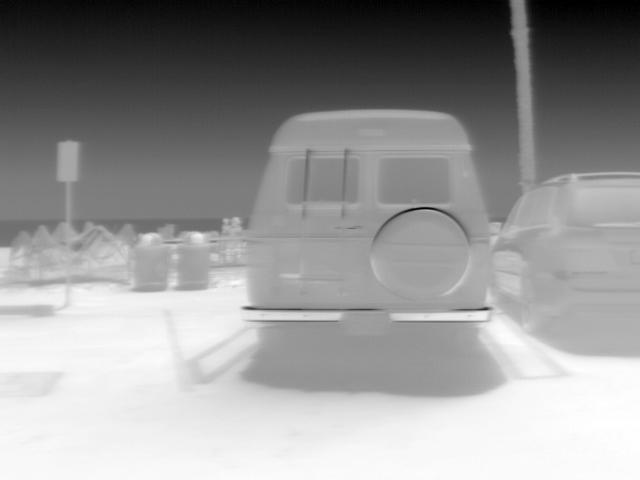car: (241, 106, 492, 352), (492, 168, 639, 334)
person: (219, 215, 234, 239), (229, 215, 245, 237)
